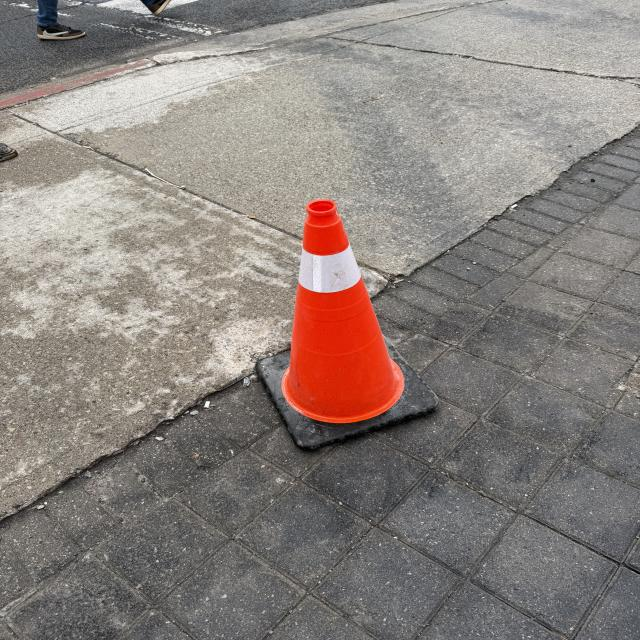Traffic Cone: (253, 200, 440, 449)
